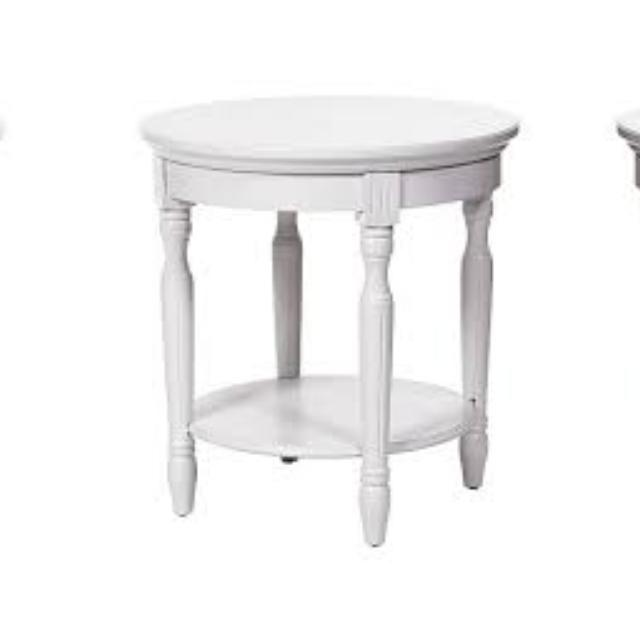obstacle: (135, 53, 540, 553), (595, 53, 640, 553), (0, 53, 6, 553)
